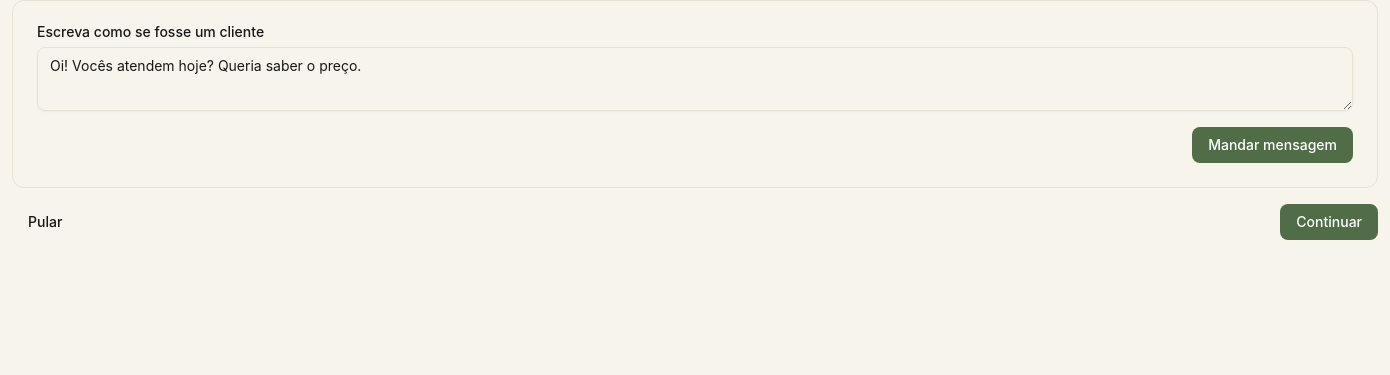
Test case: ensaio do onboarding: o que conta como sucesso › status "ok" (o que a rota devolve com candidato): mostra a resposta, sem erro
Click the button "Mandar mensagem".
click(1273, 145)  # box [1192,127,1353,163]
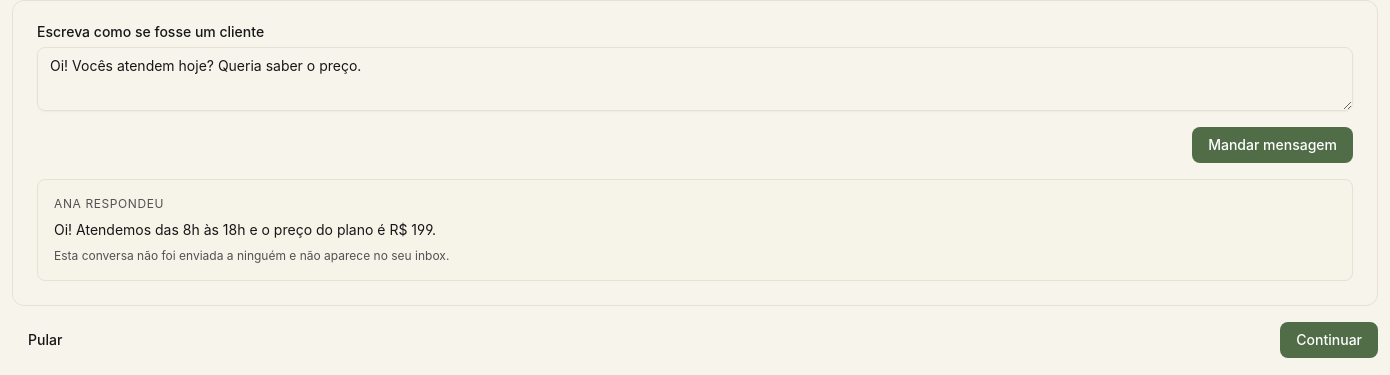
Expected: the text "Oi! Atendemos das 8h às 18h e o preço do plano é R$ 199." is shown, [54,221,436,238]
